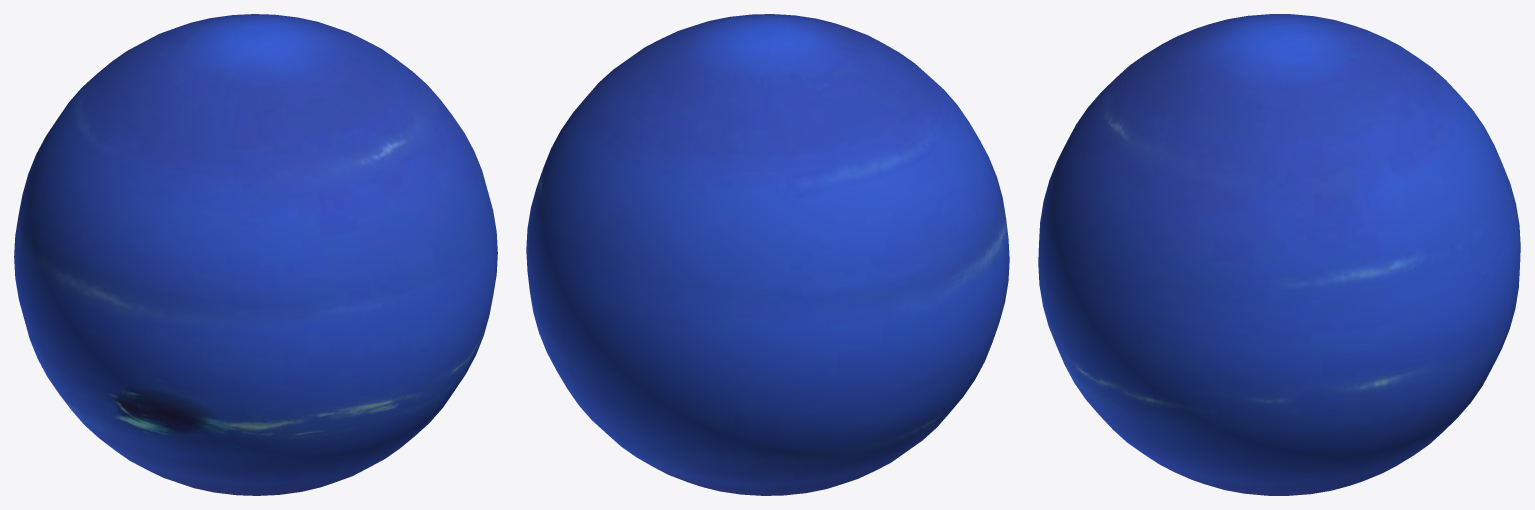
The model's file is Neptune.fbx.
The picture shows the model from 3 angles, left to right: view 1: azimuth 30°, elevation 25°; view 2: azimuth 150°, elevation 25°; view 3: azimuth 270°, elevation 25°; orthographic projection.
Visible parts, largest first — view 1: Neptune.001; view 2: Neptune.001; view 3: Neptune.001.
Part boxes in pixels (box(x1,y1,x2,y2)): Neptune.001: box(14, 14, 497, 495); Neptune.001: box(526, 14, 1009, 495); Neptune.001: box(1038, 14, 1520, 495).
Size of the model in its own units: 3.98 by 3.98 by 3.98.
